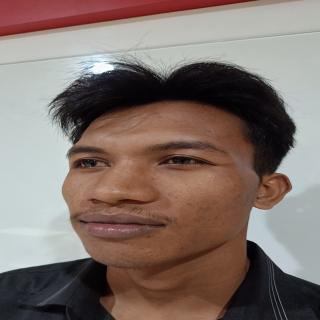Netral: (57, 92, 269, 278)
